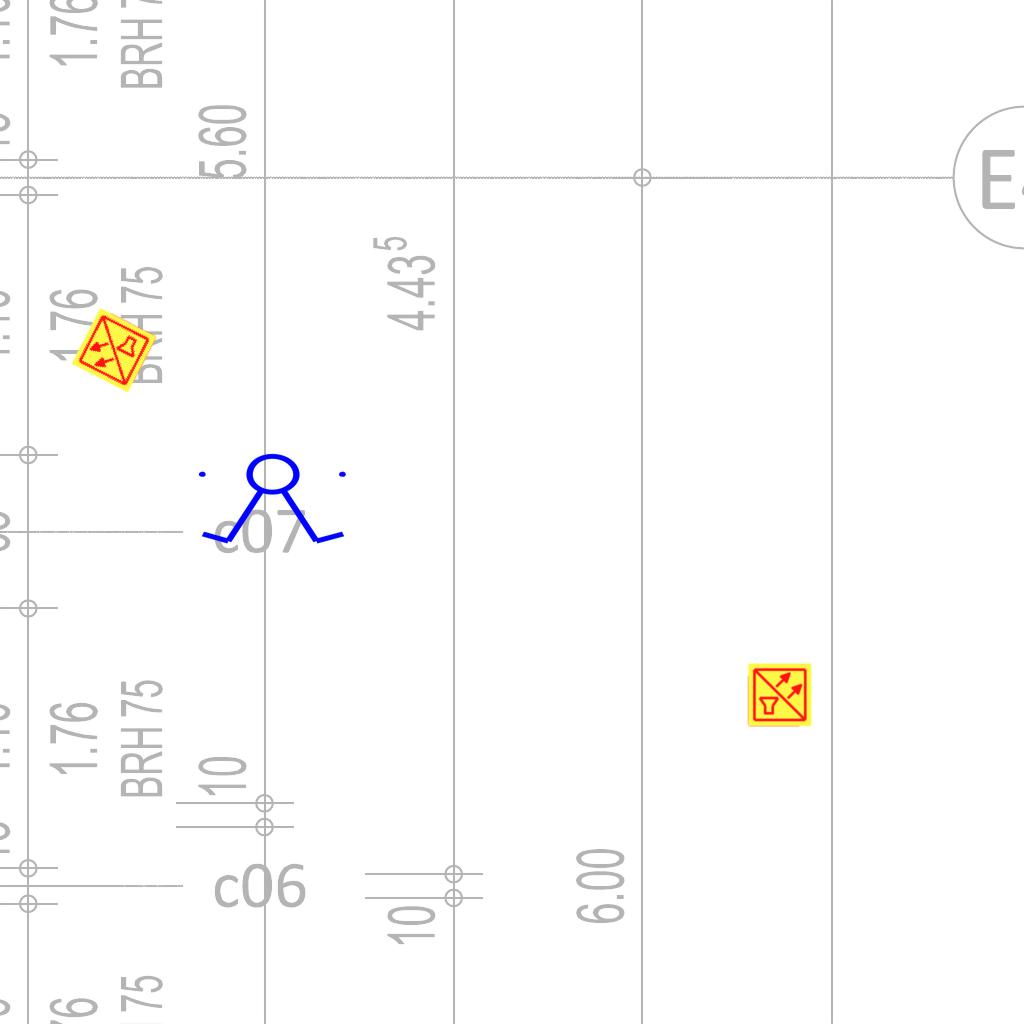OKW_Multisensormelder_(Kombination_optischer_Rauch-Kahlenmonoxid_Waerme-Melder): (69, 305, 159, 395), (747, 662, 813, 728)
Serienschalter: (190, 452, 358, 548)
